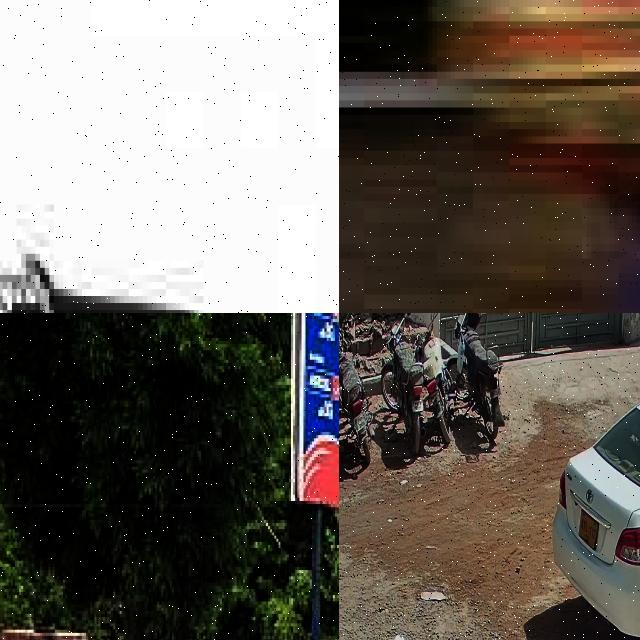bike: (0, 71, 339, 313), (445, 313, 504, 440), (380, 313, 425, 455), (412, 313, 454, 442), (339, 313, 374, 463)
car: (553, 385, 640, 640)
